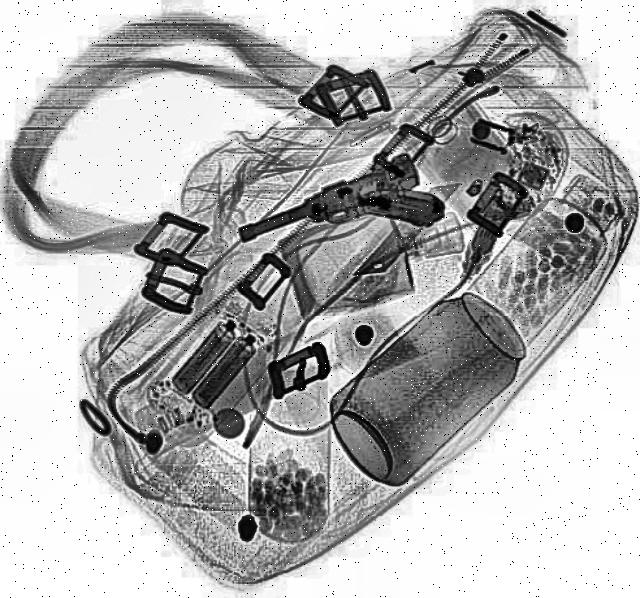Gun: (235, 156, 452, 290)
